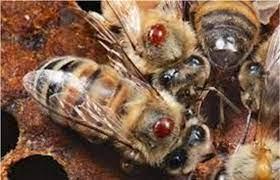worker-bee: (23, 53, 210, 174)
